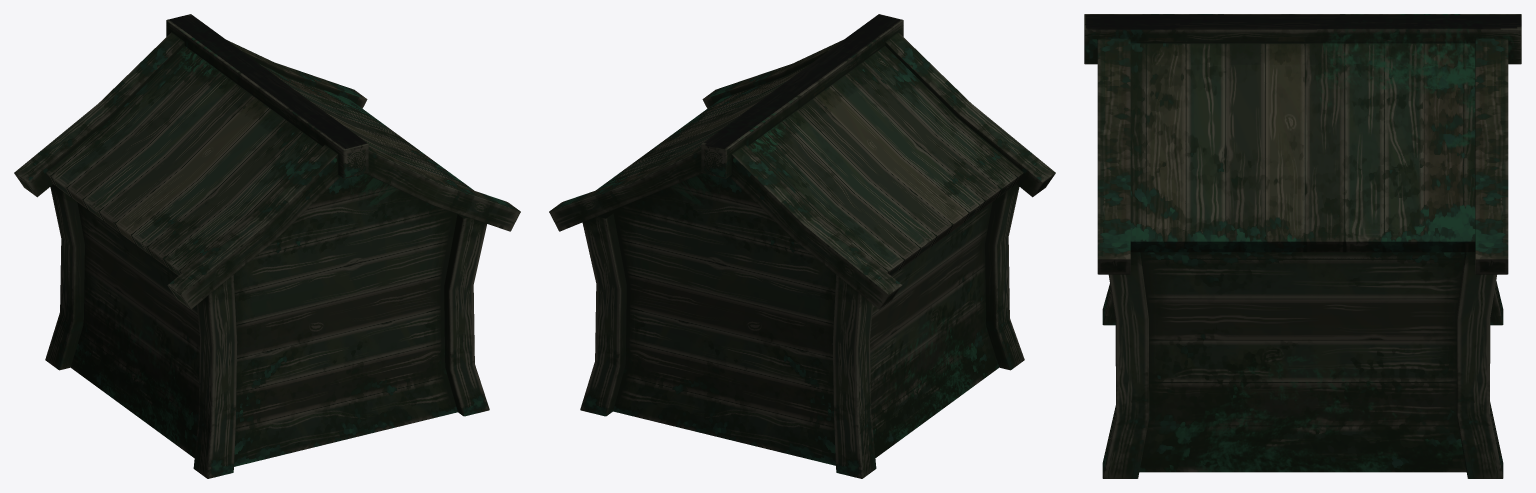
File: EN_W_WoodHouse_02_19G4.fbx
3 renders of one model, left to right at view 1: azimuth 30°, elevation 25°; view 2: azimuth 150°, elevation 25°; view 3: azimuth 270°, elevation 25°, orthographic. The views are drawn at different scales.
Visible parts, largest first — view 1: EN_W_WoodHouse_02_19G4; view 2: EN_W_WoodHouse_02_19G4; view 3: EN_W_WoodHouse_02_19G4.
Boxes of the visible parts, bbox=[...] form: EN_W_WoodHouse_02_19G4: bbox=[14, 14, 520, 478]; EN_W_WoodHouse_02_19G4: bbox=[549, 14, 1055, 478]; EN_W_WoodHouse_02_19G4: bbox=[1084, 14, 1521, 478].
Bounding box in the file's own units: 459 × 390 × 415.
1 material, 1 textured.
